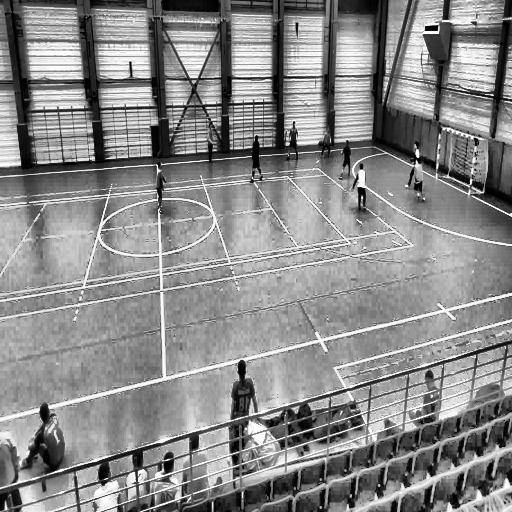player: (404, 140, 420, 192), (352, 160, 367, 213), (155, 158, 167, 216), (250, 135, 264, 183), (286, 122, 299, 164), (339, 140, 352, 181), (413, 158, 425, 202), (206, 122, 216, 164), (320, 125, 332, 159)
